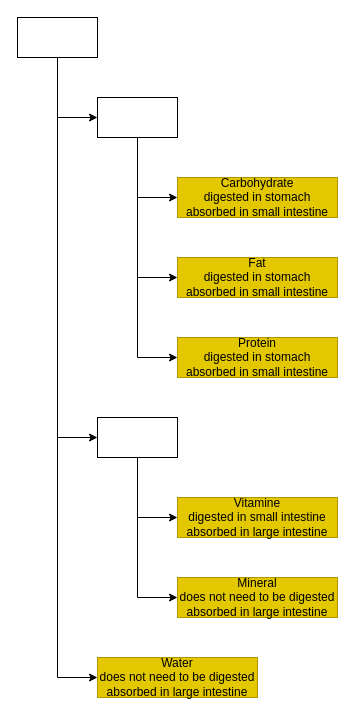
This 355x716 diagram has some shape labels left out. Each missing label, with the centre of its shape:
"Macro" goes at (137,117).
"Micro" goes at (137,437).
"Nutrition" goes at (57,37).
